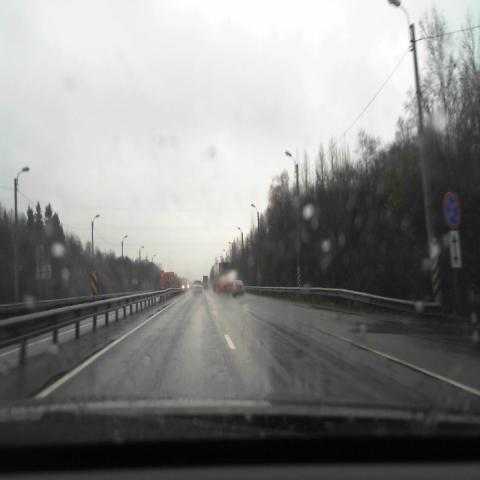8_2_4: (448, 230, 461, 267)
